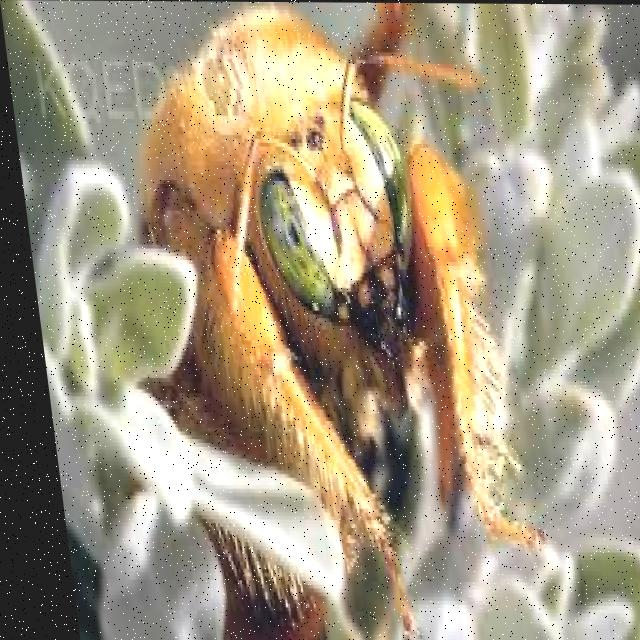Xylocopa: (66, 0, 548, 624)
